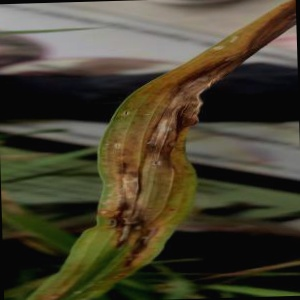Brown_Spot: (147, 73, 226, 161), (111, 213, 169, 260), (90, 195, 145, 241)
